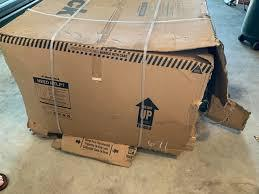damage_box: (0, 0, 254, 164)
